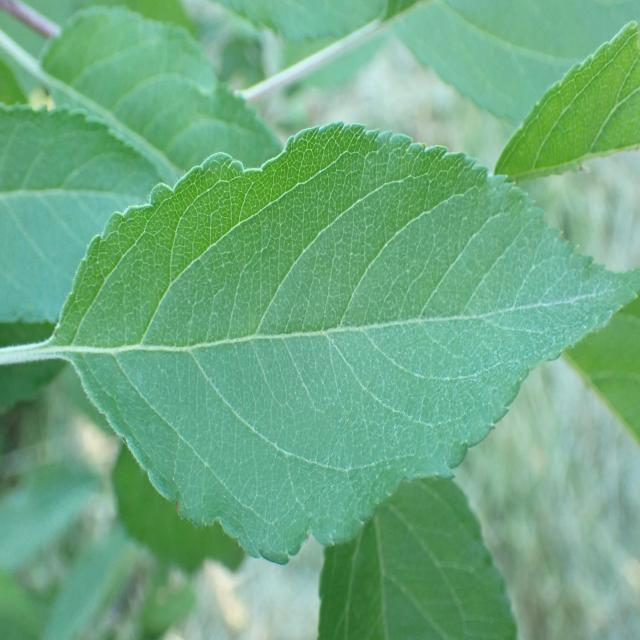healthy: (54, 120, 640, 566), (37, 4, 283, 181), (1, 102, 176, 326), (316, 472, 518, 640), (491, 19, 640, 184)
